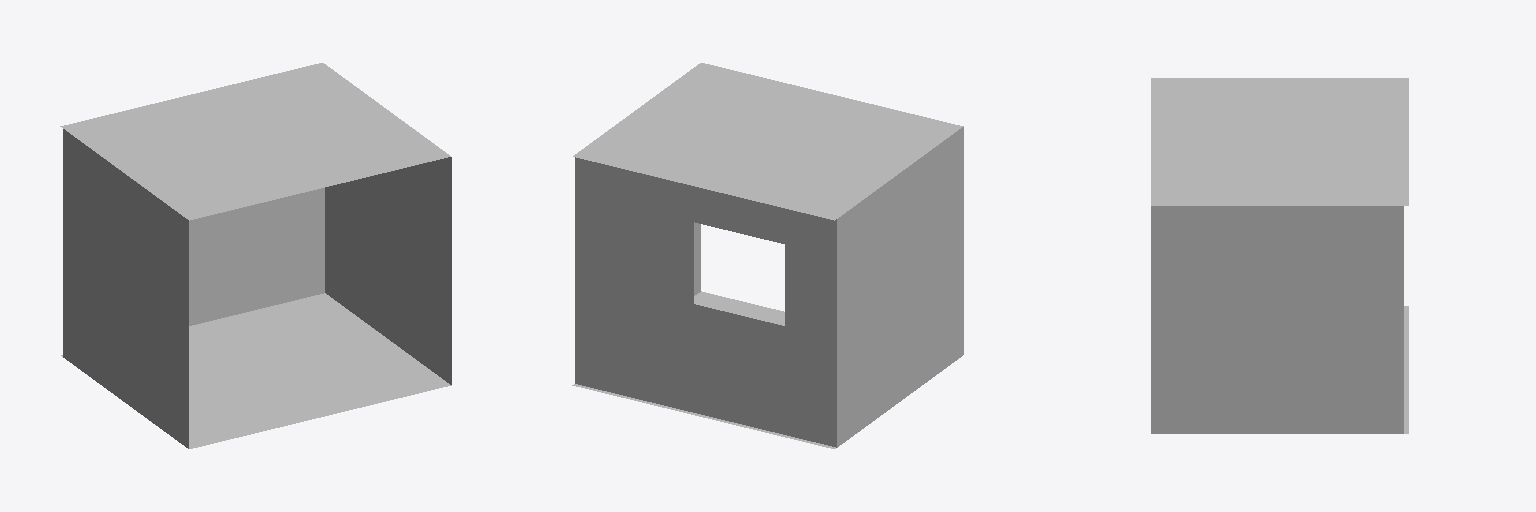
The model's file is wall_floor_ceil.obj.
3 views of the same model, side by side, from view 1: azimuth 30°, elevation 25°; view 2: azimuth 150°, elevation 25°; view 3: azimuth 270°, elevation 25° (orthographic).
Visible parts, largest first — view 1: Plane.001, Plane.002_Plane.004, Plane; view 2: Plane.001, Plane.002_Plane.004, Plane; view 3: Plane.001, Plane.002_Plane.004, Plane.
Boxes of the visible parts, box(x1,y1,x2,y2) form: Plane.001: box(63, 129, 451, 448); Plane.002_Plane.004: box(60, 63, 450, 220); Plane: box(61, 293, 451, 448); Plane.001: box(575, 127, 963, 447); Plane.002_Plane.004: box(573, 63, 963, 220); Plane: box(572, 291, 835, 448); Plane.001: box(1151, 206, 1403, 433); Plane.002_Plane.004: box(1151, 78, 1408, 205); Plane: box(1404, 306, 1408, 433).
Bounding box in the file's own units: 6 × 5 × 5.09.